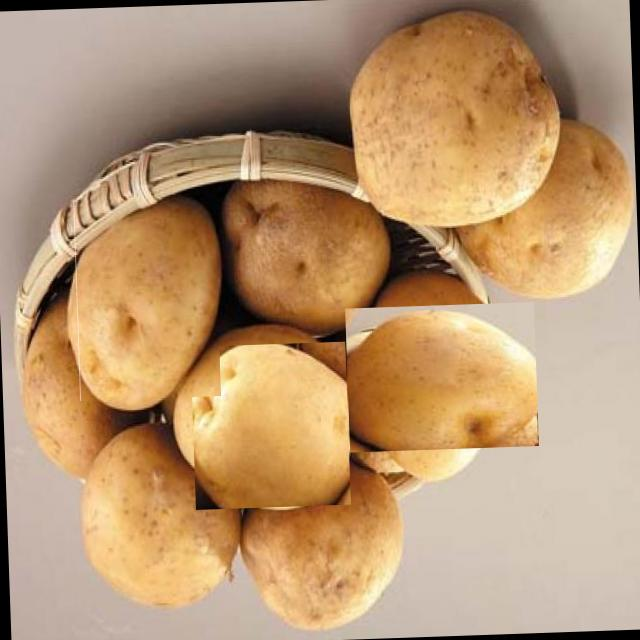potato: (355, 28, 547, 216), (72, 196, 220, 400), (355, 291, 528, 463), (188, 341, 350, 511)
